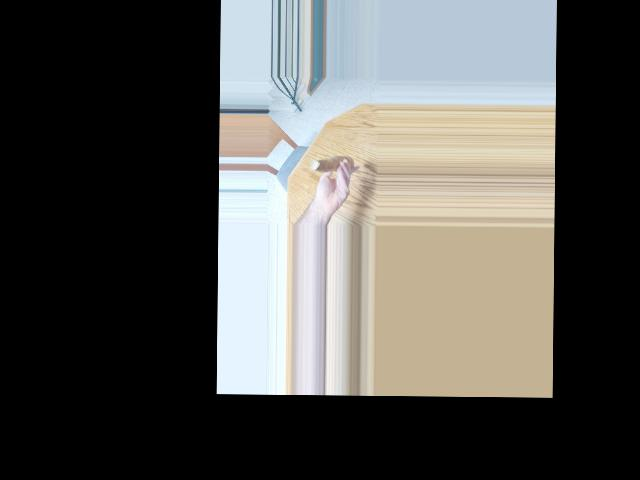sweet_potato: (312, 153, 348, 177)
